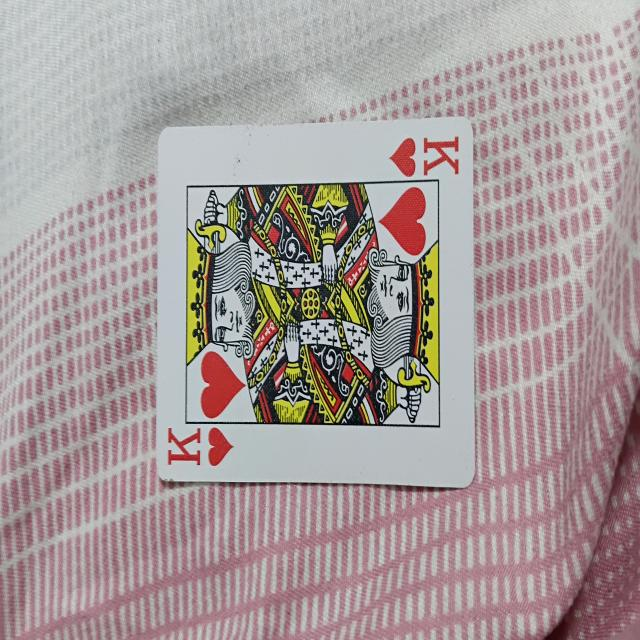KH: (151, 111, 472, 482)
